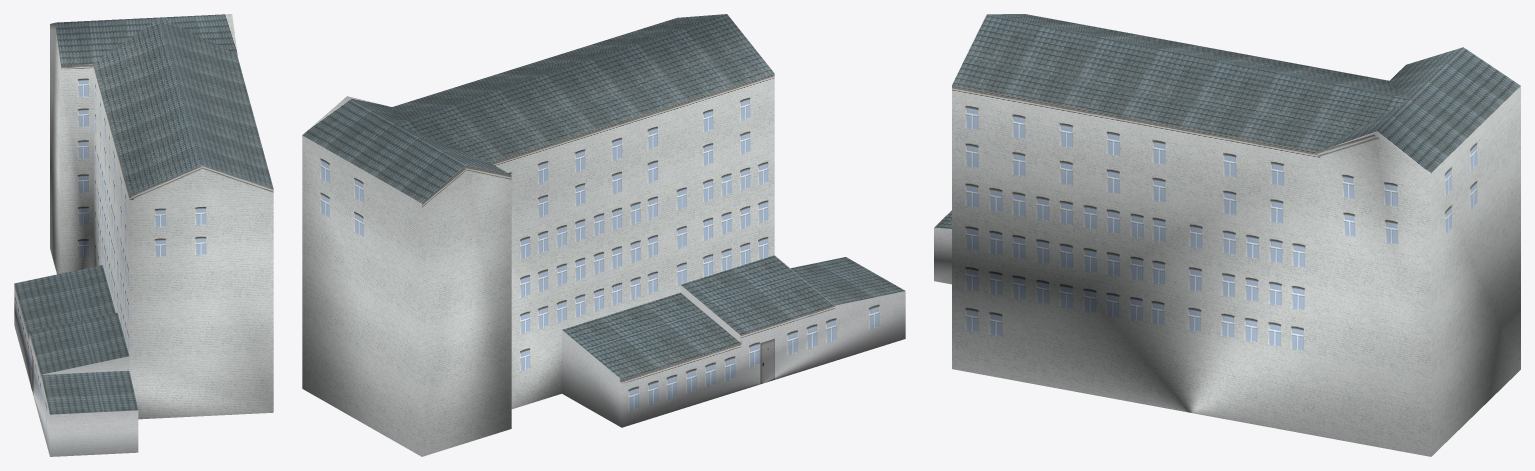
The model's file is lp-building25.fbx.
The picture shows the model from 3 angles, left to right: view 1: azimuth 30°, elevation 25°; view 2: azimuth 150°, elevation 25°; view 3: azimuth 270°, elevation 25°; orthographic projection. The views are drawn at different scales.
Parts seen in each view (by area): view 1: 01houses.015; view 2: 01houses.015; view 3: 01houses.015.
Boxes of the visible parts, left/top/right/bottom form: 01houses.015: left=14, top=14, right=273, bottom=456; 01houses.015: left=302, top=14, right=905, bottom=456; 01houses.015: left=934, top=14, right=1520, bottom=456.
Size of the model in its own units: 954 by 646 by 1078.
1 material, 1 textured.
